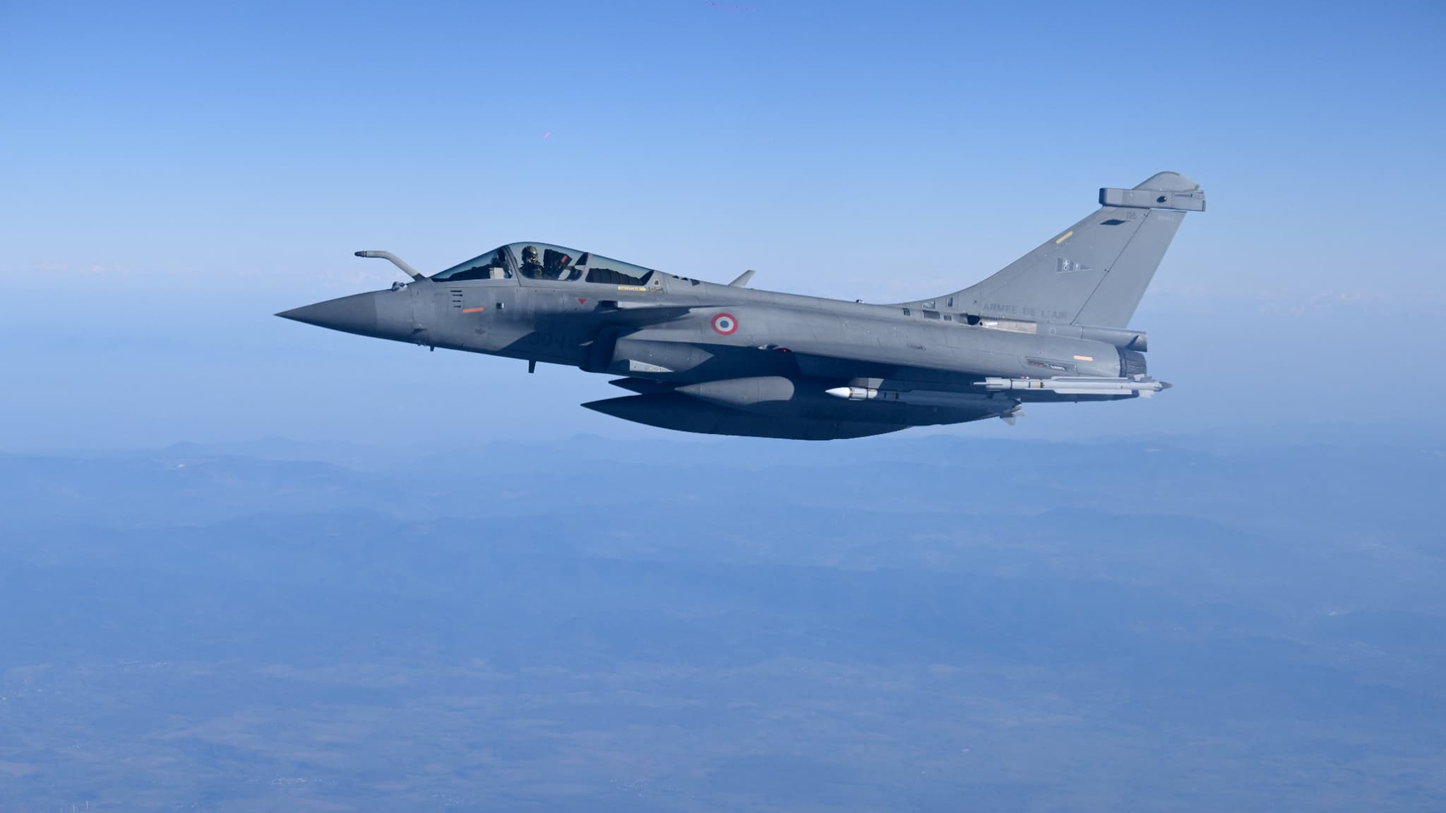Rafale: (270, 162, 1214, 449)
